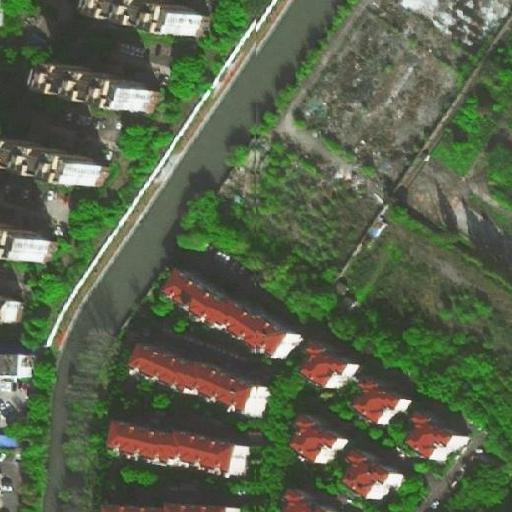building: (176, 275, 305, 364), (130, 343, 266, 418), (108, 418, 246, 477), (67, 70, 157, 120), (28, 148, 109, 193), (339, 449, 400, 504), (403, 408, 464, 462), (301, 345, 362, 394), (287, 412, 343, 464), (357, 379, 410, 428), (274, 489, 330, 512), (100, 502, 242, 511), (1, 354, 31, 381), (0, 296, 23, 326), (0, 428, 20, 448)
